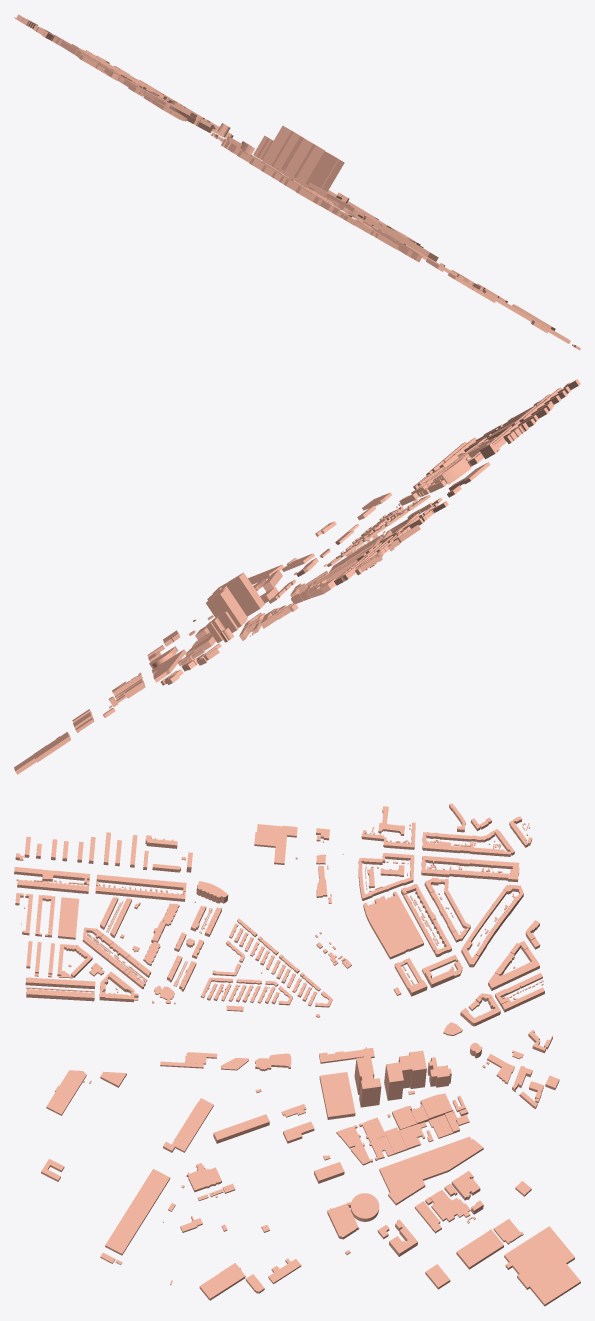
3 views of the same model, one above another, from view 1: azimuth 30°, elevation 25°; view 2: azimuth 150°, elevation 25°; view 3: azimuth 270°, elevation 25° (orthographic). The views are drawn at different scales.
Size of the model in its own units: 1046 by 810 by 1306.
